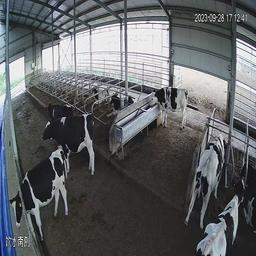cow: (10, 142, 78, 230), (175, 126, 229, 231), (193, 179, 244, 252), (44, 114, 96, 177), (147, 79, 192, 134), (236, 153, 255, 229), (90, 79, 107, 109), (110, 87, 125, 111)
